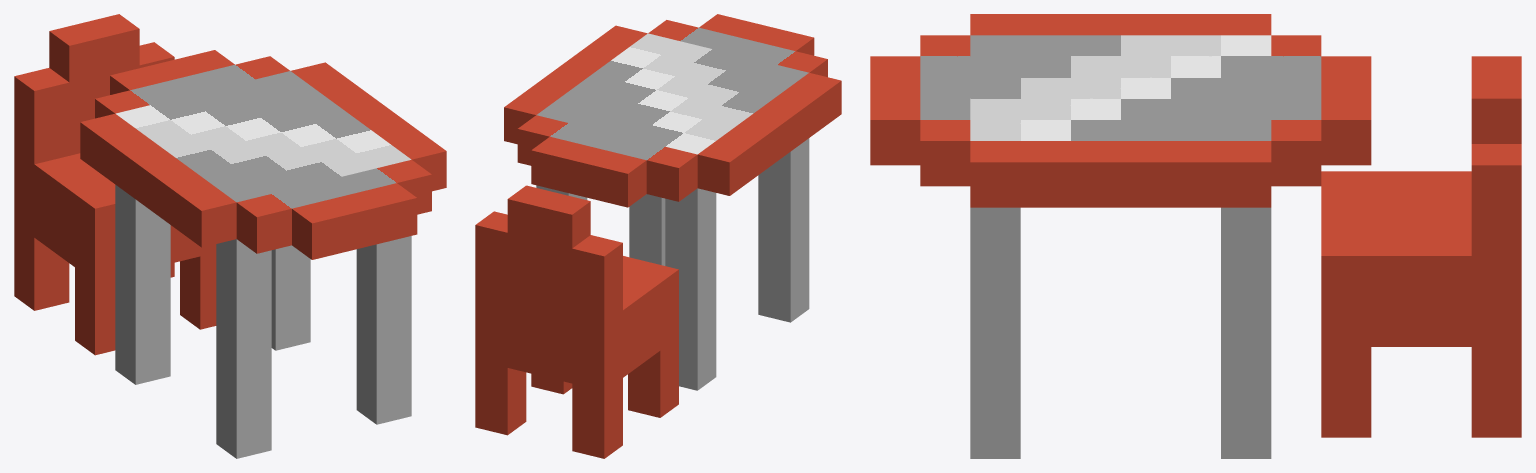
Rendered from table.dae.
The picture shows the model from 3 angles, left to right: view 1: azimuth 30°, elevation 25°; view 2: azimuth 150°, elevation 25°; view 3: azimuth 270°, elevation 25°; orthographic projection. The views are drawn at different scales.
Visible parts, largest first — view 1: table.merged; view 2: table.merged; view 3: table.merged.
Boxes of the visible parts, x1,y1,x2,y2 form: table.merged: (14,14,446,458); table.merged: (475,14,841,458); table.merged: (870,14,1521,458).
Size of the model in its own units: 0.7 by 1.3 by 0.7.
1 material, 1 textured.
